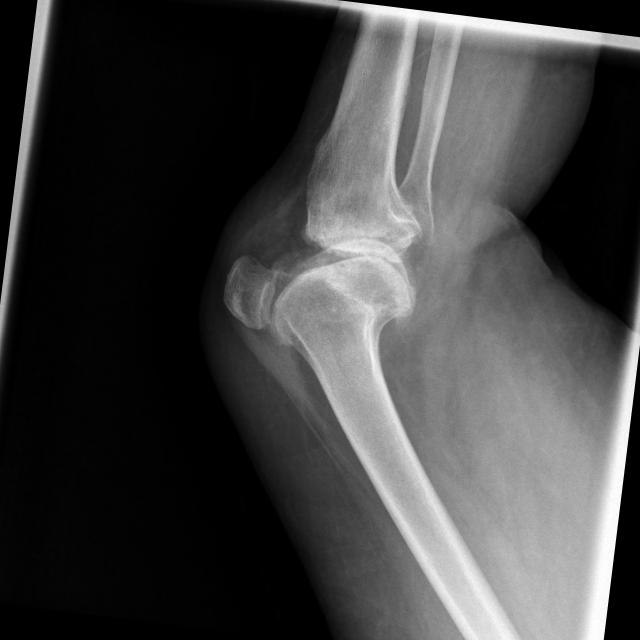Knee: (213, 179, 429, 354)
